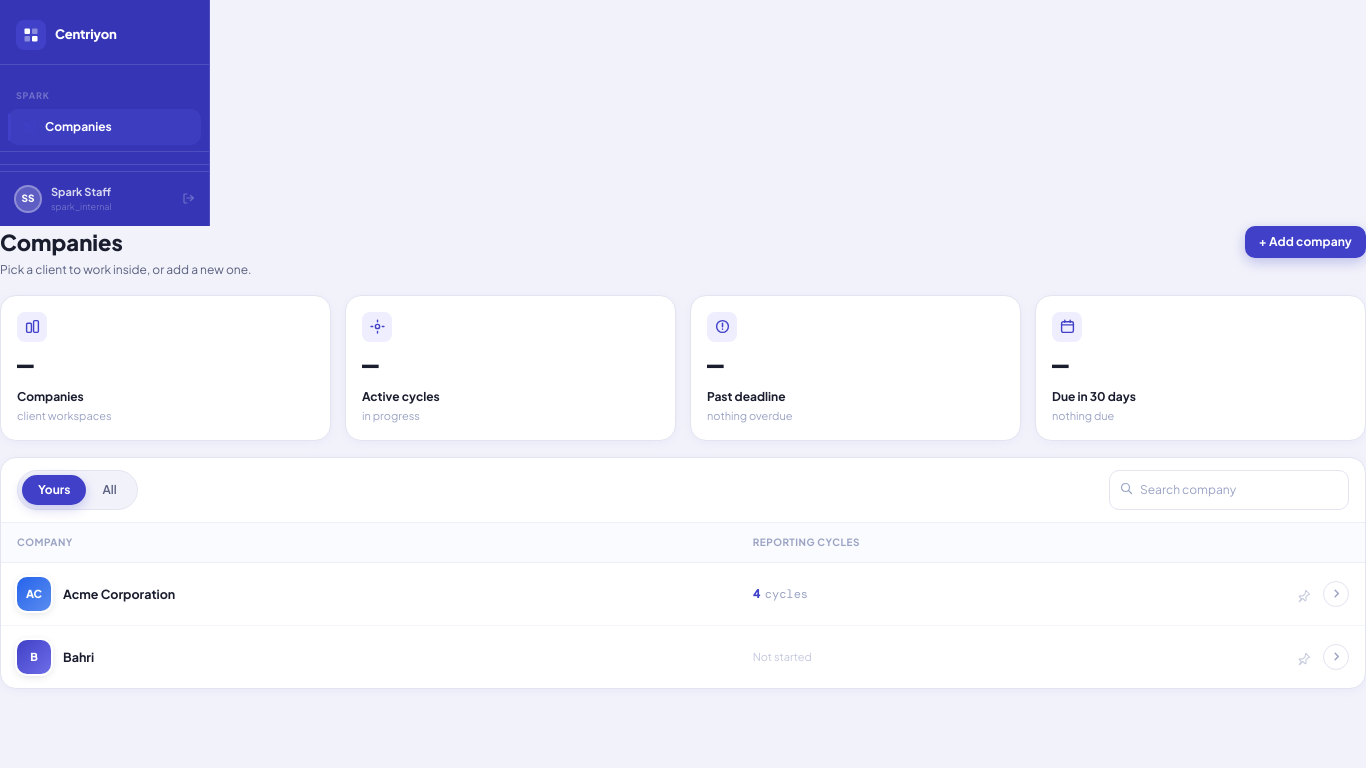
Test case: picking and leaving a company, end to end › clicking Companies in the nav collapses it again and clears storage
Click the text "Acme Corporation". click: click(119, 594)
box: [63,585,175,603]
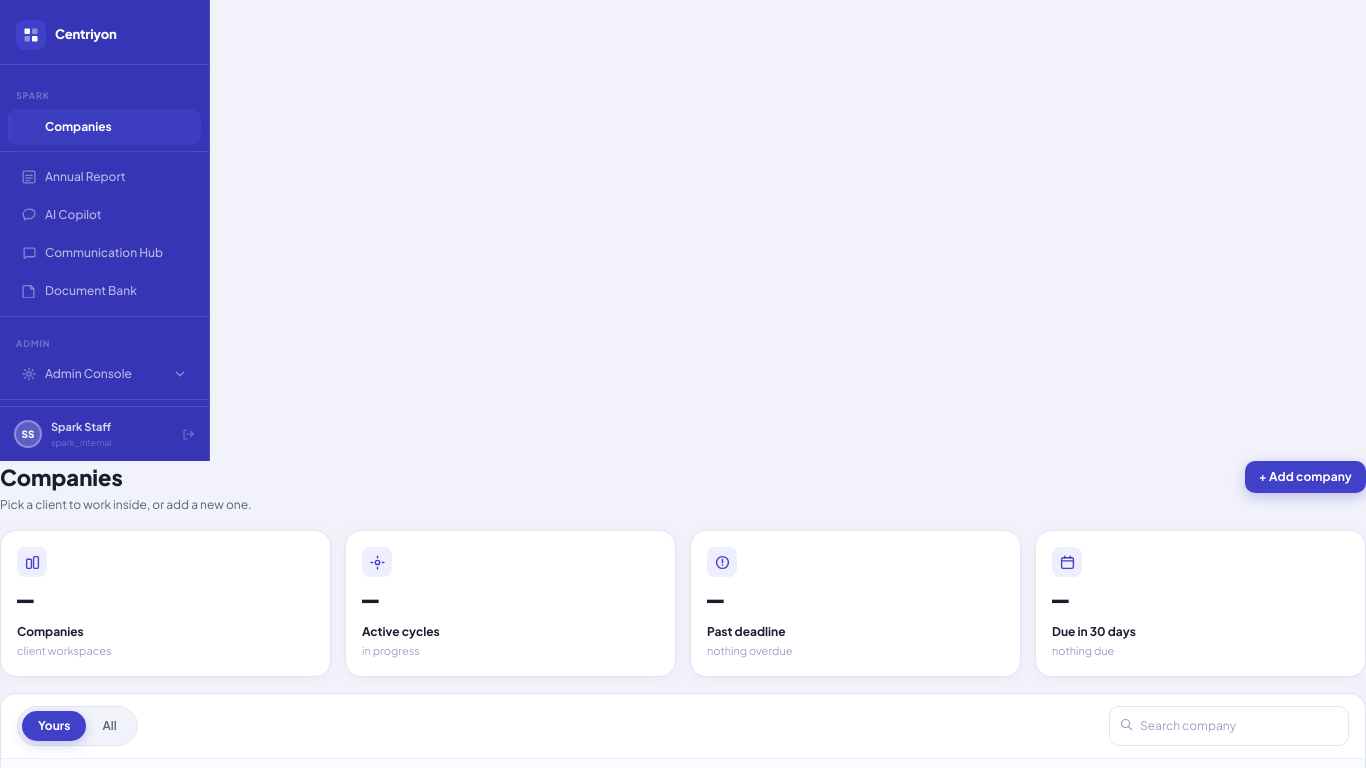
Now the button "AI Copilot" is shown, box [8,196,201,232]
Click the button "Companies". click: click(104, 126)
box: [8,108,201,144]
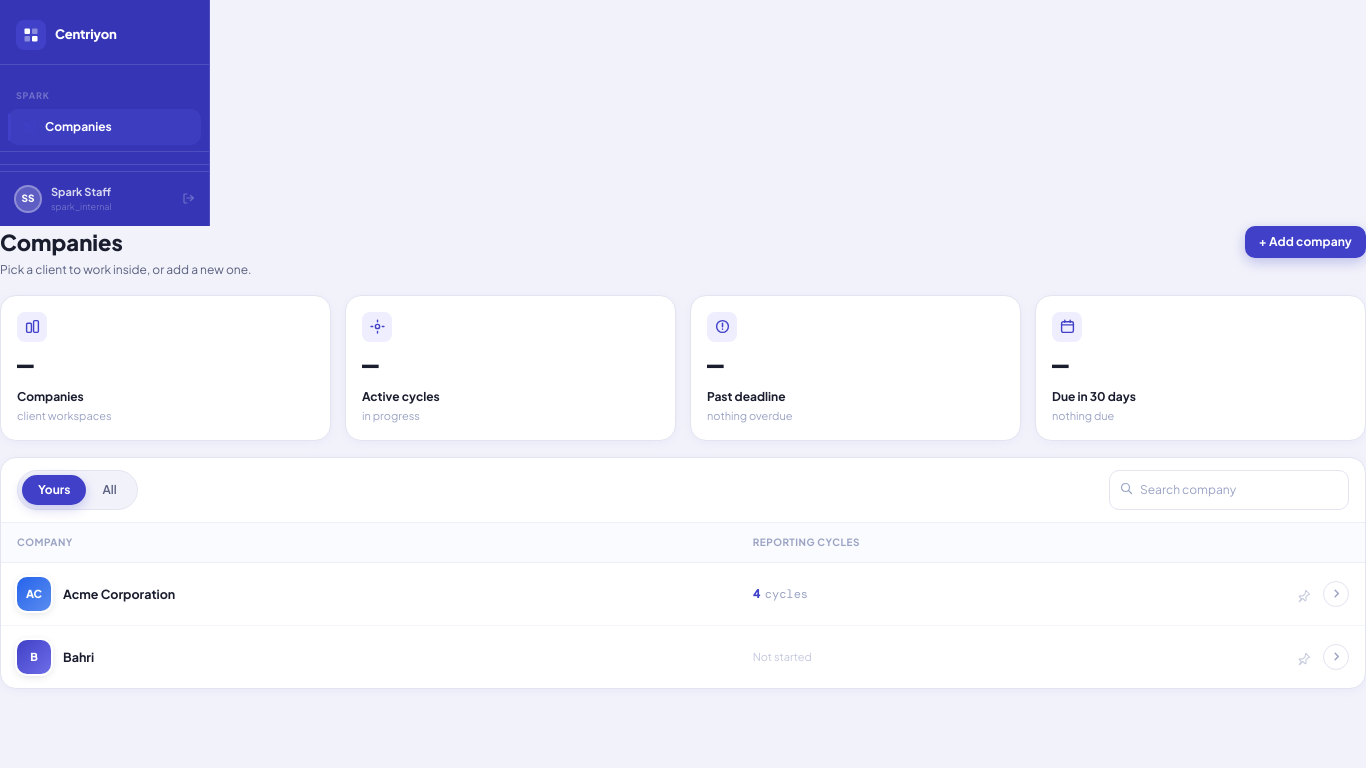
Now the button "AI Copilot" is gone
Now the button "Admin Console" is gone
